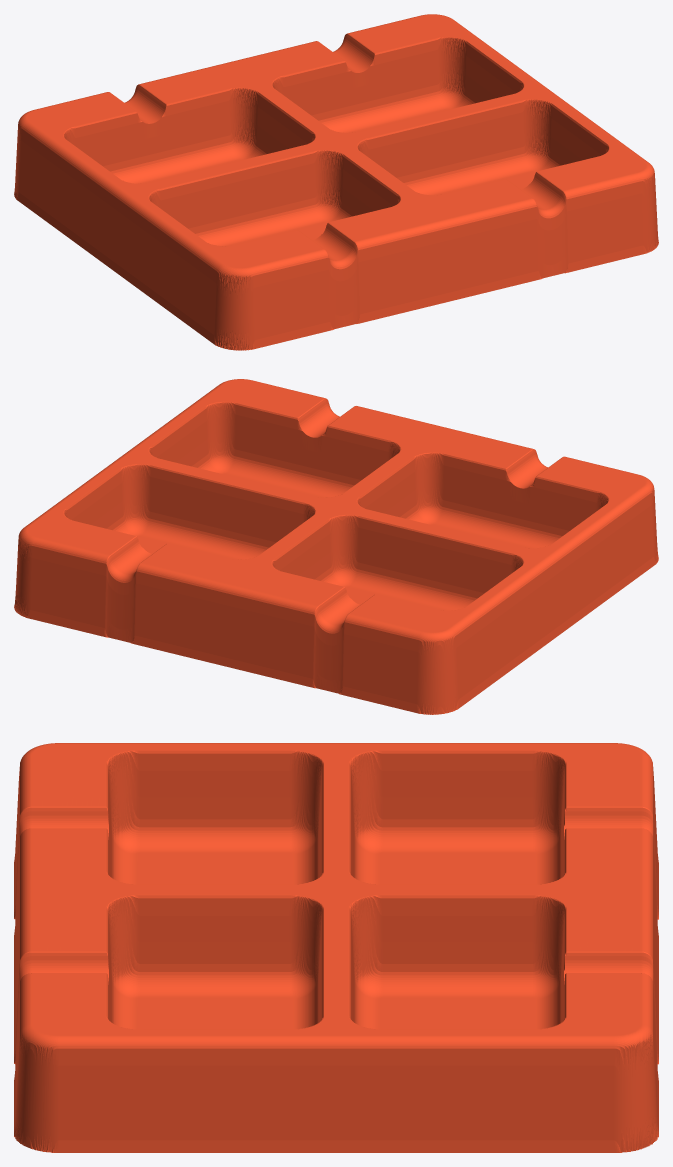
The model's file is mold.glb.
The picture shows the model from 3 angles, top to bottom: view 1: azimuth 30°, elevation 25°; view 2: azimuth 150°, elevation 25°; view 3: azimuth 270°, elevation 25°; orthographic projection. The views are drawn at different scales.
Visible parts, largest first — view 1: geometry_0; view 2: geometry_0; view 3: geometry_0.
Boxes of the visible parts, left/top/right/bottom form: geometry_0: left=14, top=14, right=658, bottom=350; geometry_0: left=14, top=379, right=658, bottom=714; geometry_0: left=14, top=743, right=658, bottom=1152.
Bounding box in the file's own units: 0.1468 × 0.0245 × 0.1305.
